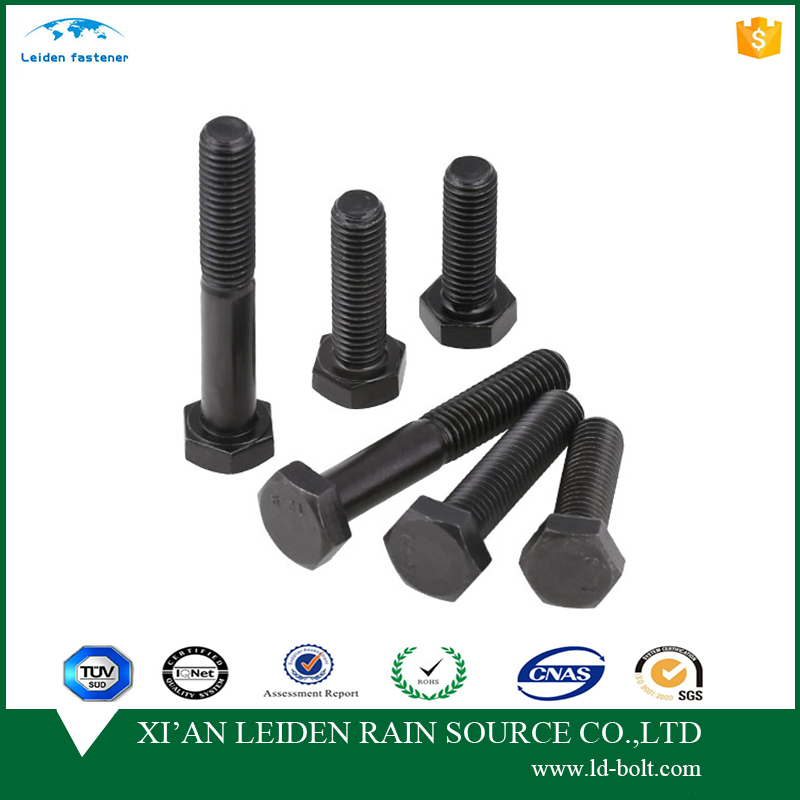screw: (259, 350, 573, 573), (384, 389, 587, 602), (184, 115, 276, 474), (311, 191, 407, 411), (519, 418, 626, 610), (419, 157, 520, 348)
